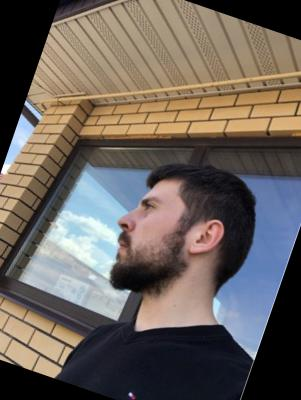without_mask: (96, 179, 188, 301)
